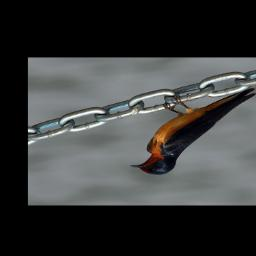Swallow: (129, 86, 256, 175)
